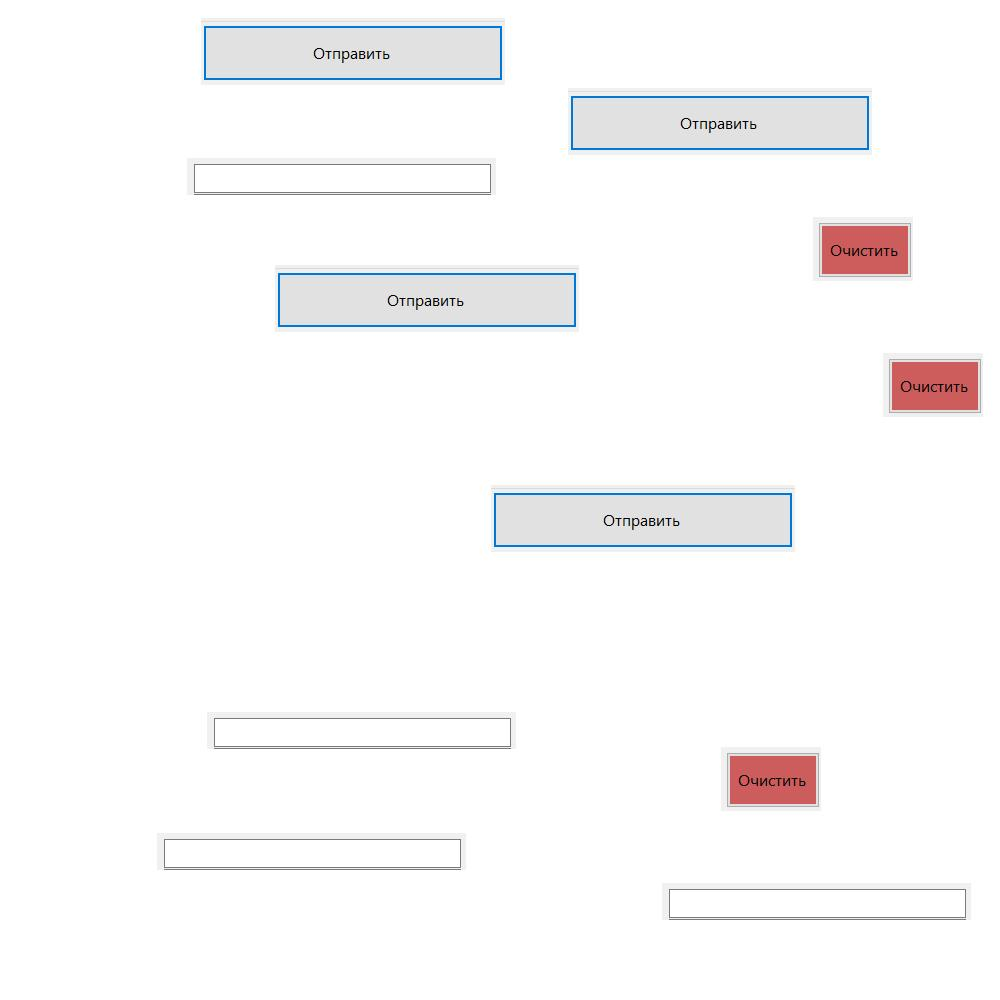Button: (491, 485, 795, 552), (275, 265, 579, 332), (201, 18, 505, 85), (568, 88, 872, 155), (883, 353, 983, 417), (813, 217, 913, 281), (721, 747, 821, 811)
EditText-: (662, 883, 971, 920), (207, 712, 516, 749), (157, 833, 466, 870), (187, 158, 496, 195)
